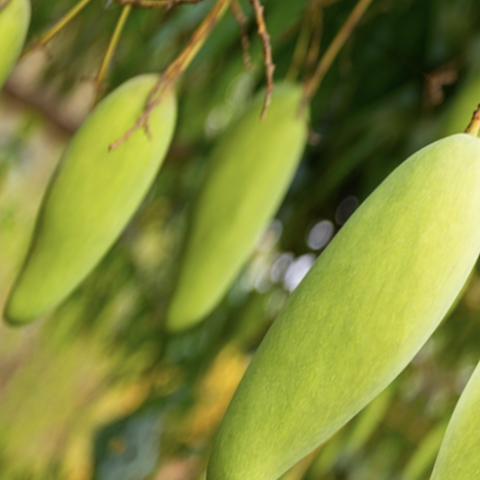mango: (151, 75, 480, 480), (96, 50, 359, 369), (0, 39, 214, 357)
